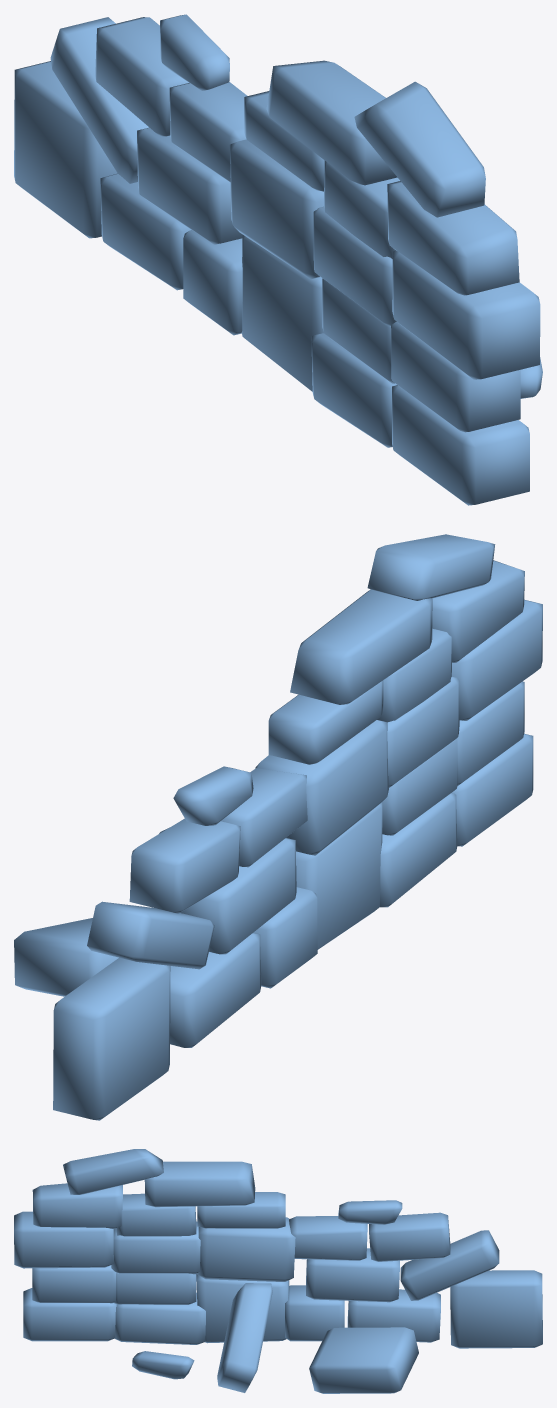
The model's file is wall.fbx.
3 views of the same model, one above another, from view 1: azimuth 30°, elevation 25°; view 2: azimuth 150°, elevation 25°; view 3: azimuth 270°, elevation 25° (orthographic). The views are drawn at different scales.
Parts seen in each view (by area): view 1: Cube.004; view 2: Cube.004; view 3: Cube.004.
Part boxes in pixels (bbox=[...]): Cube.004: bbox=[14, 14, 542, 505]; Cube.004: bbox=[14, 534, 542, 1120]; Cube.004: bbox=[14, 1149, 542, 1393].
Bounding box in the file's own units: 141 × 213 × 501.
